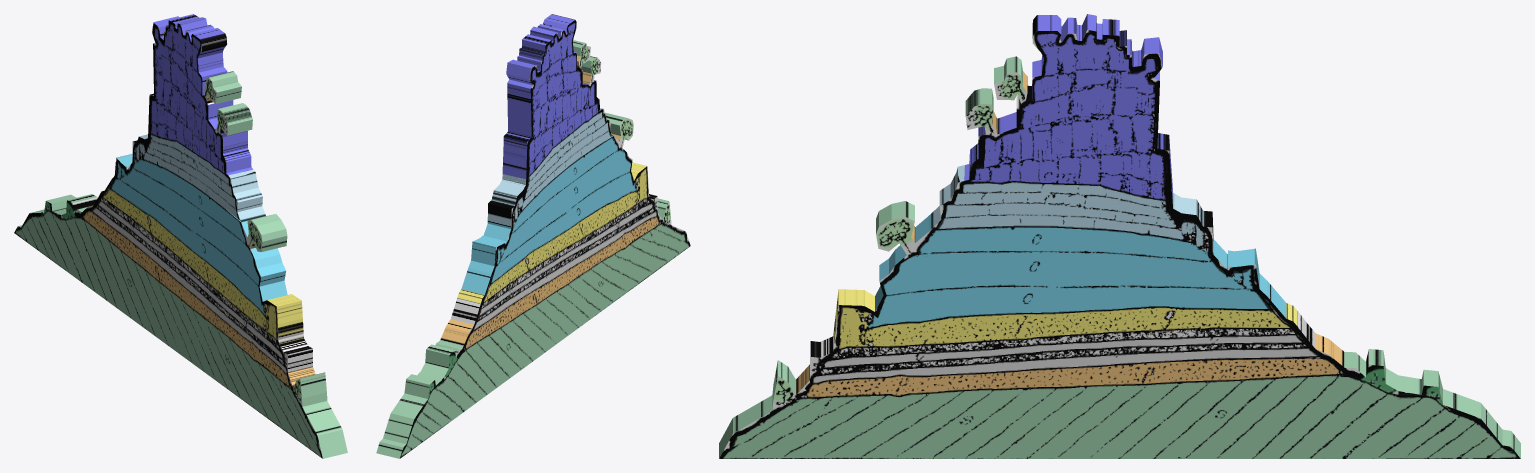
The model's file is Perda Liana.glb.
3 views of the same model, side by side, from view 1: azimuth 30°, elevation 25°; view 2: azimuth 150°, elevation 25°; view 3: azimuth 270°, elevation 25° (orthographic). The views are drawn at different scales.
Parts seen in each view (by area): view 1: Plane.002, Plane.001, Plane.003; view 2: Plane.002, Plane.001, Plane.003; view 3: Plane.002, Plane.001, Plane.003.
Part boxes in pixels (box(x1,y1,x2,y2)): Plane.002: box(14, 154, 347, 458); Plane.001: box(148, 14, 252, 175); Plane.003: box(132, 132, 265, 220); Plane.002: box(376, 112, 690, 458); Plane.001: box(502, 14, 601, 179); Plane.003: box(487, 108, 612, 226); Plane.002: box(719, 181, 1520, 458); Plane.001: box(964, 14, 1172, 201); Plane.003: box(932, 165, 1213, 254).
Bounding box in the file's own units: 0.3805 × 4.8 × 8.13.
1 material, 1 textured.
